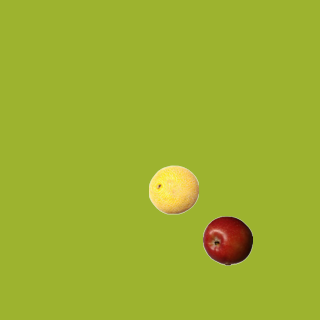Apple Braeburn: (202, 215, 252, 265)
Cantaloupe 1: (148, 164, 198, 214)
